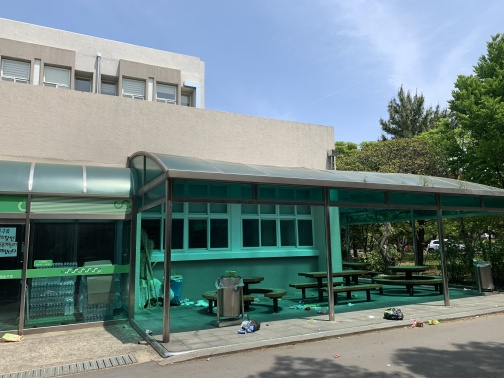Ara Hall: (1, 129, 503, 346)
